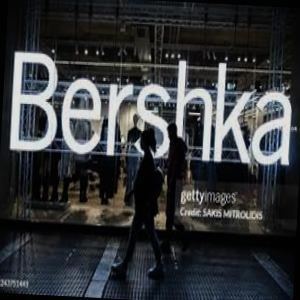bershka: (287, 37, 300, 75)
